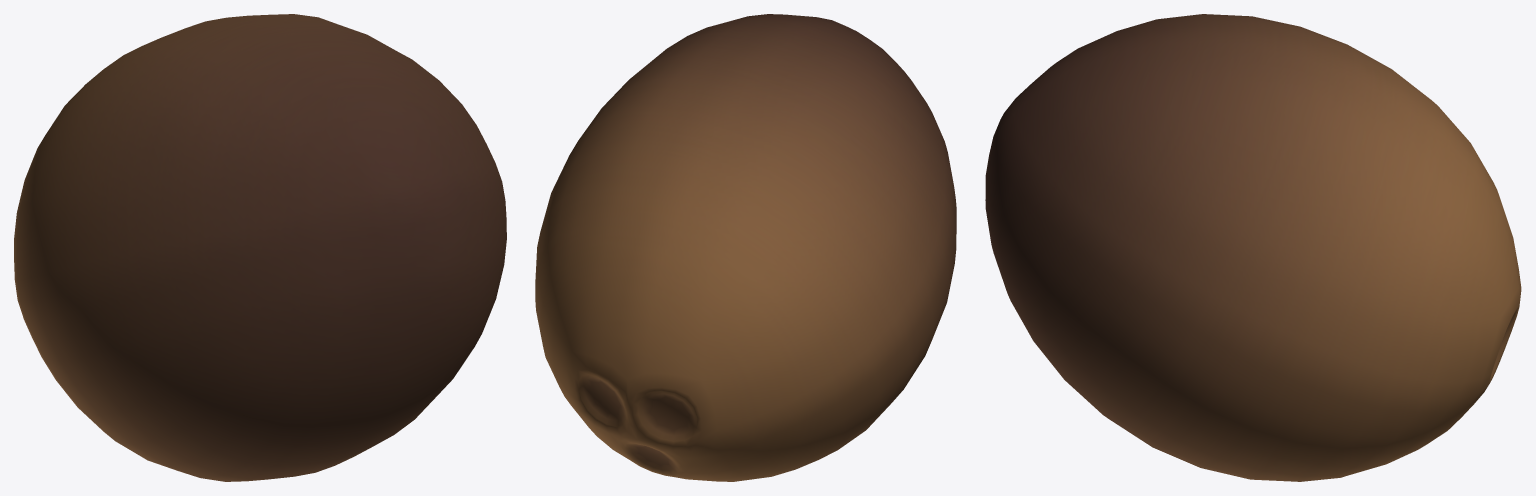
Rendered from Fbx_Coconut.fbx.
3 views of the same model, side by side, from view 1: azimuth 30°, elevation 25°; view 2: azimuth 150°, elevation 25°; view 3: azimuth 270°, elevation 25° (orthographic). The views are drawn at different scales.
Parts seen in each view (by area): view 1: Coconut_LOD0; view 2: Coconut_LOD0; view 3: Coconut_LOD0.
Part boxes in pixels (bbox=[...]): Coconut_LOD0: bbox=[14, 14, 506, 481]; Coconut_LOD0: bbox=[535, 14, 956, 481]; Coconut_LOD0: bbox=[985, 14, 1521, 481].
Size of what is drawn, in the model's own units: 95.16 by 99.11 by 113.
